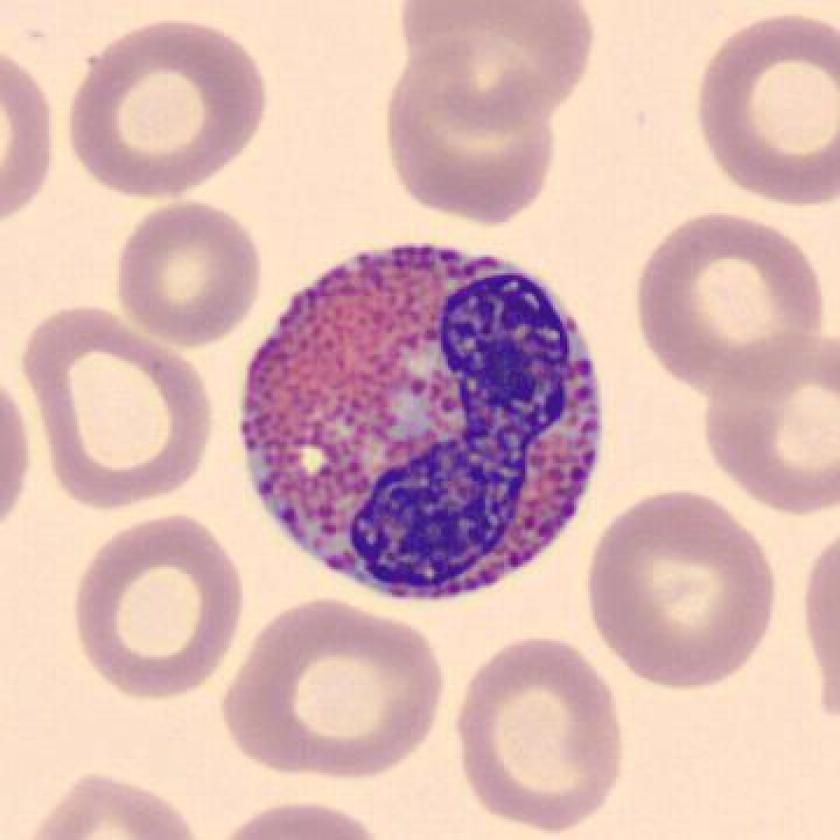eosinophil: (237, 230, 615, 612)
